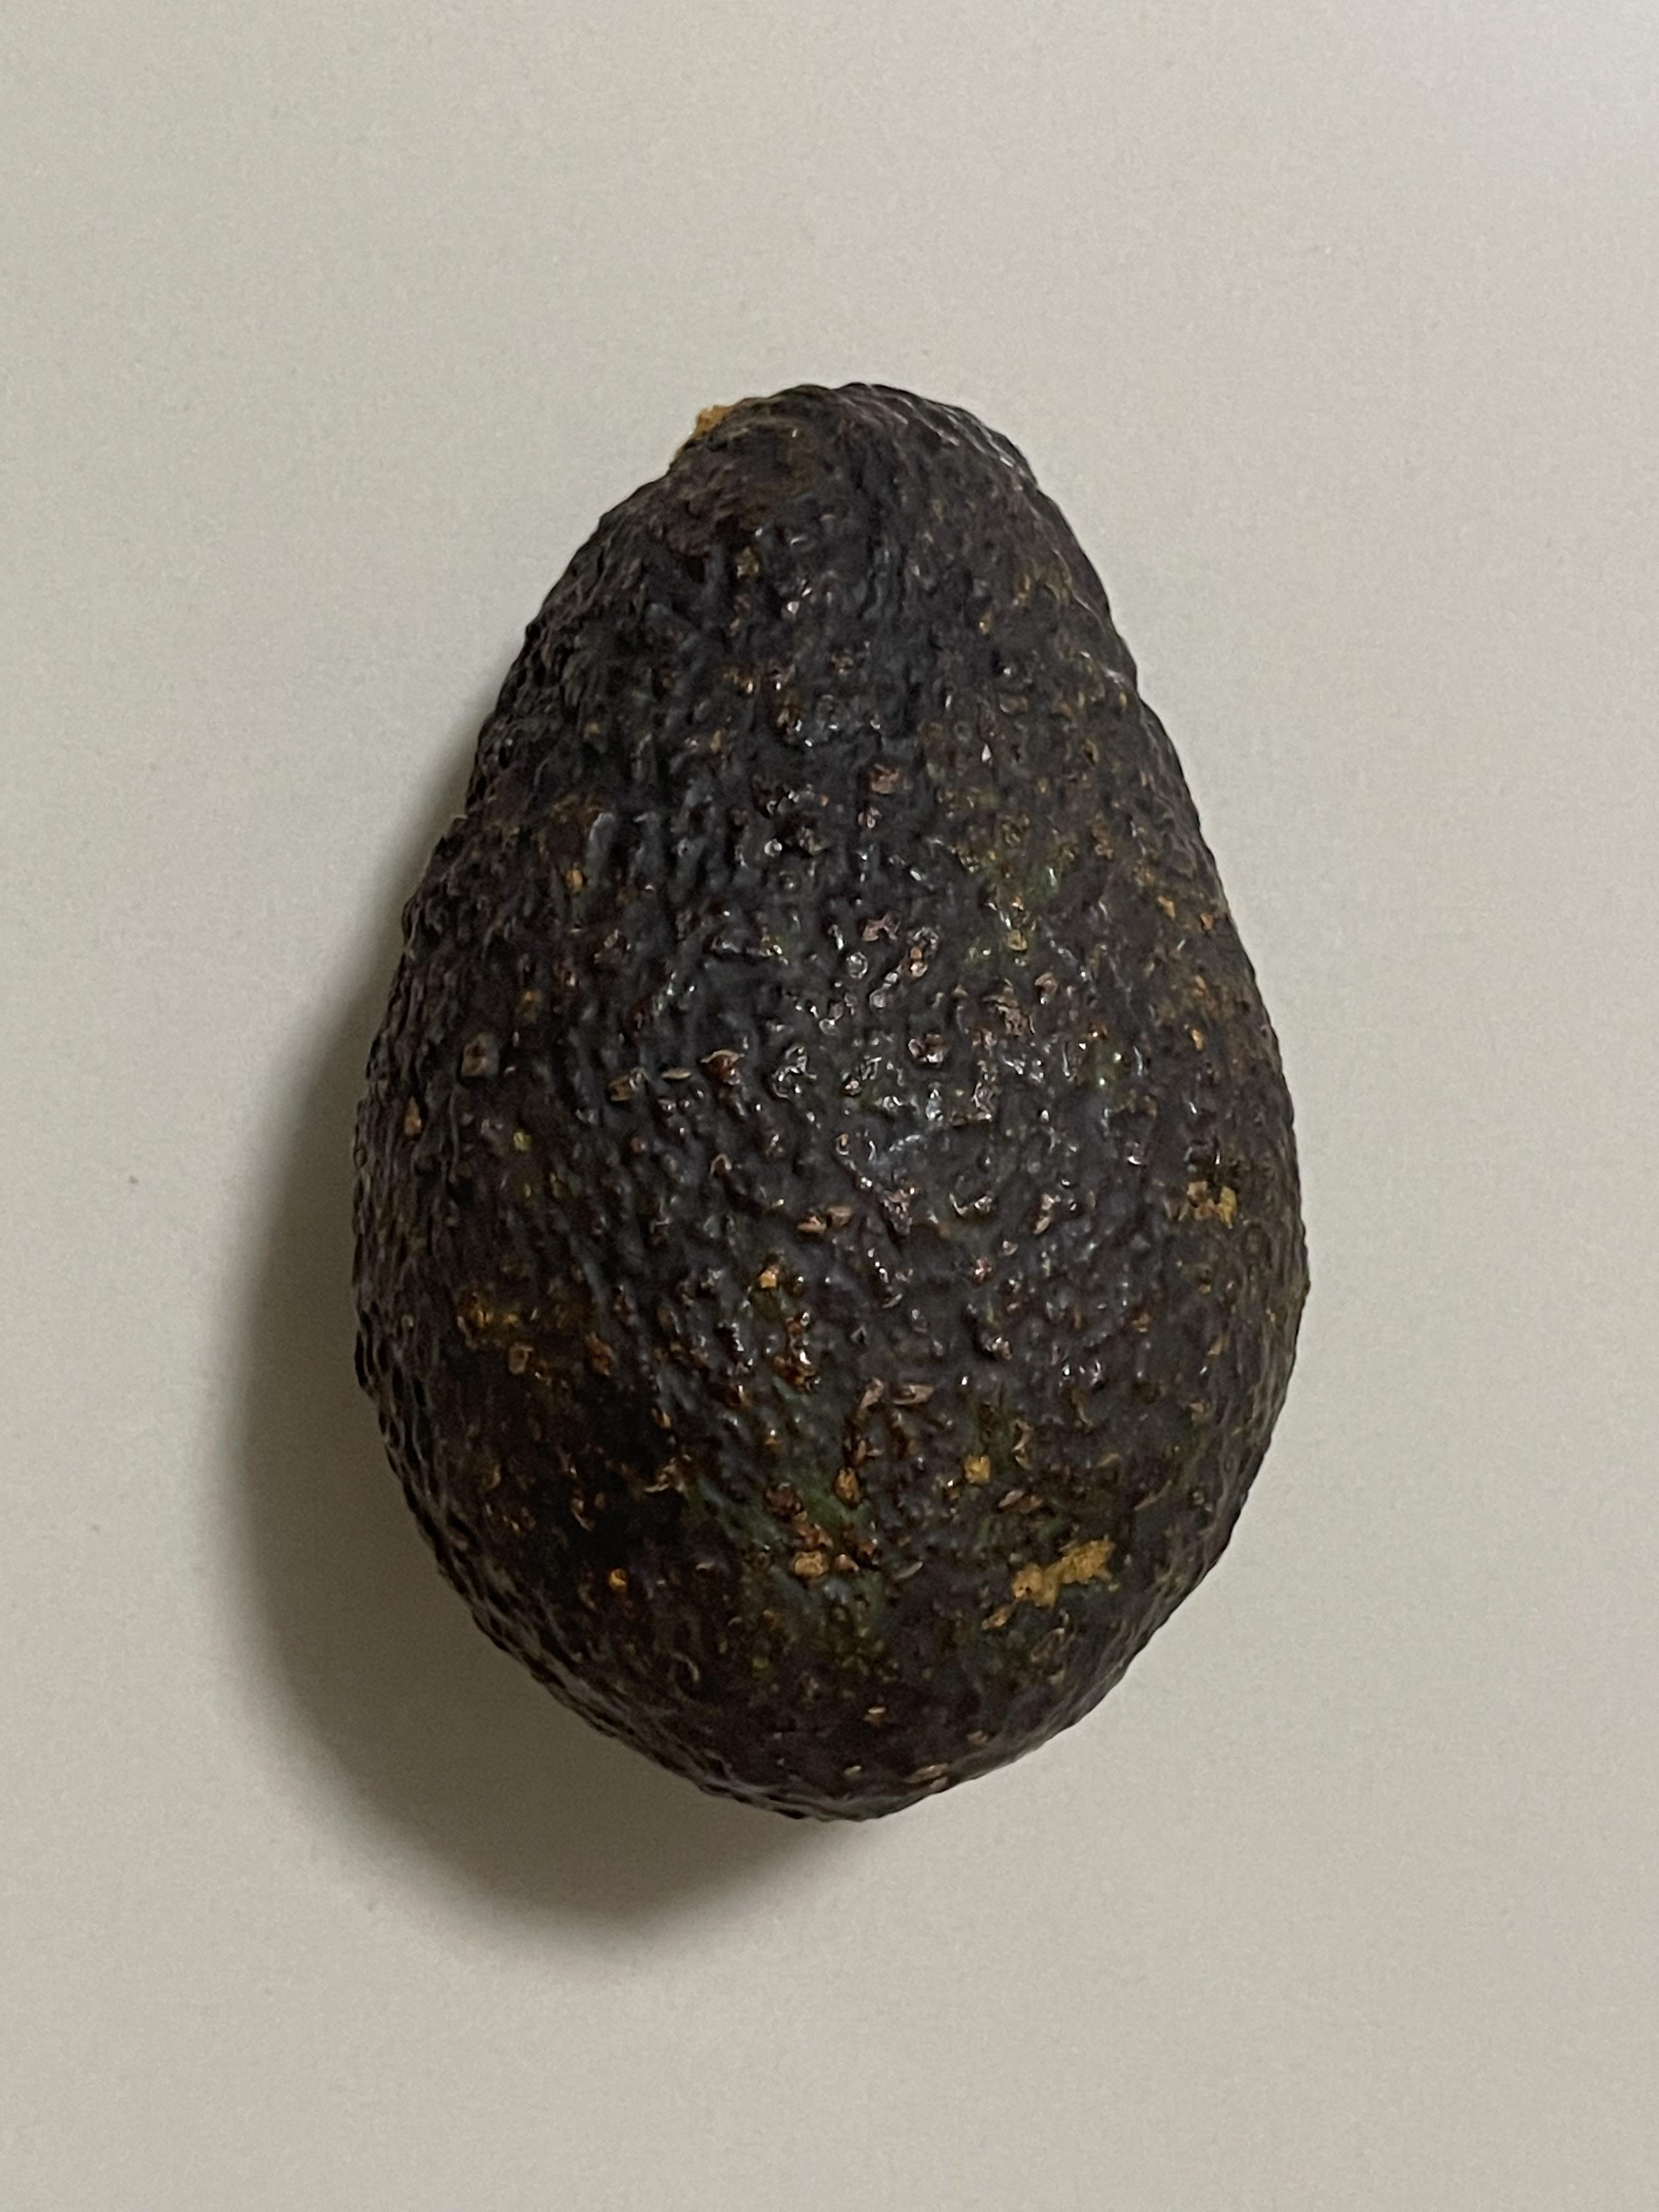Level2: (324, 362, 1335, 1844)
